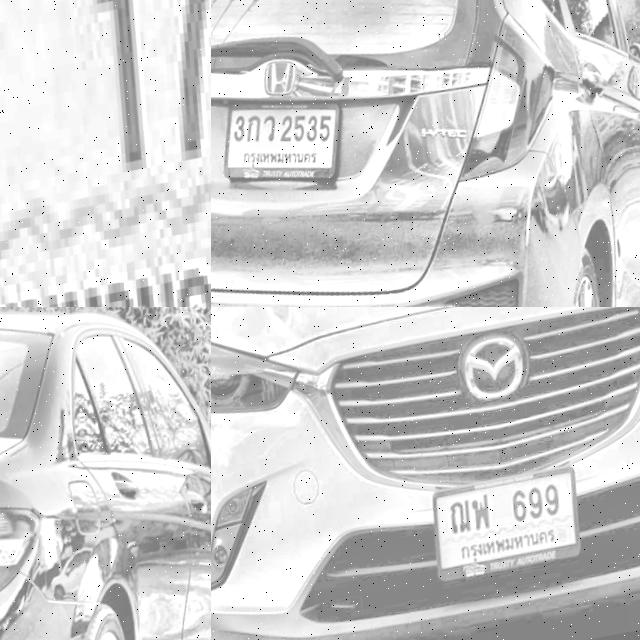license-plate: (0, 0, 211, 307), (429, 462, 594, 590), (215, 76, 355, 210)
